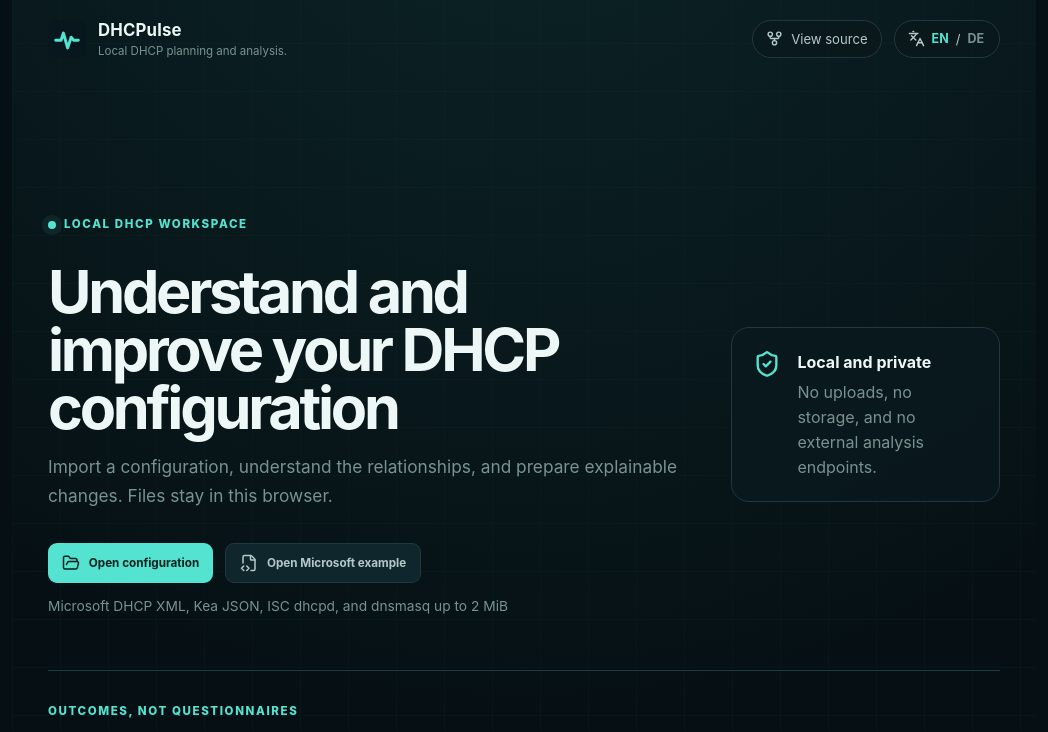
Test: DHCPulse Workbench › localizes the integrated export guide in German
The image size is (1048, 732).
Click the button with aria-label "Deutsch" at (976, 39), box [965,29,986,49]
(page scrolled)
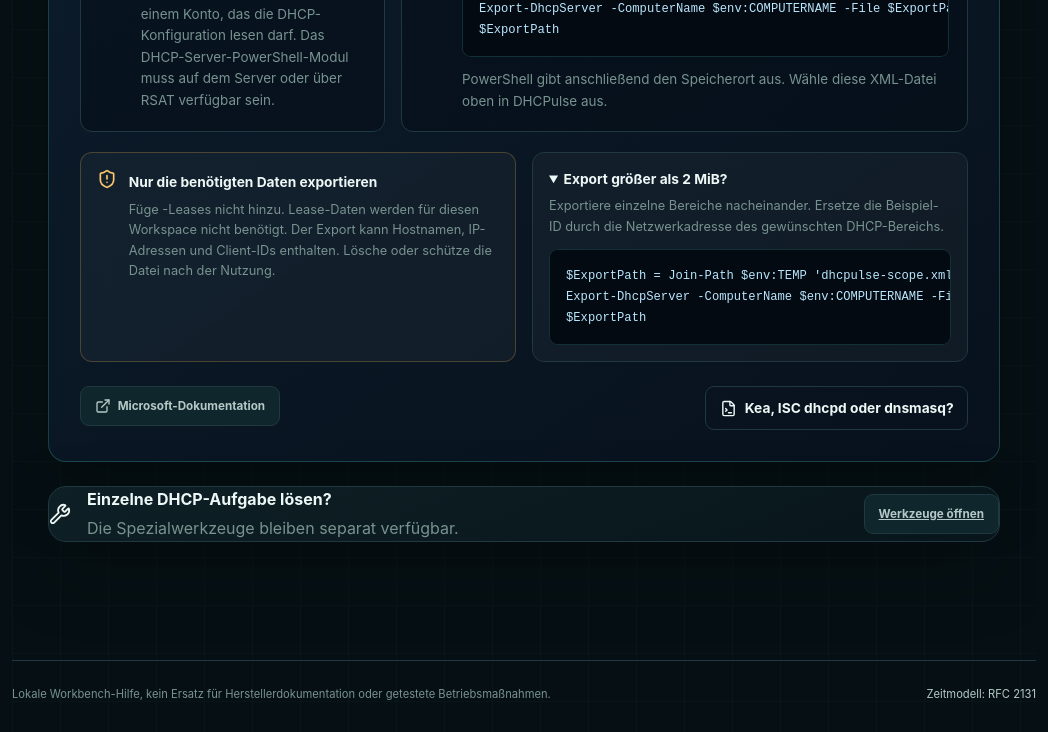
Check: the heading "Kea, ISC dhcpd oder dnsmasq?" is shown, box [720,398,954,419]
Check: the link with aria-label "Offizielle Export-DhcpServer-Dokumentation öffnen" is shown, box [80,386,280,426]
